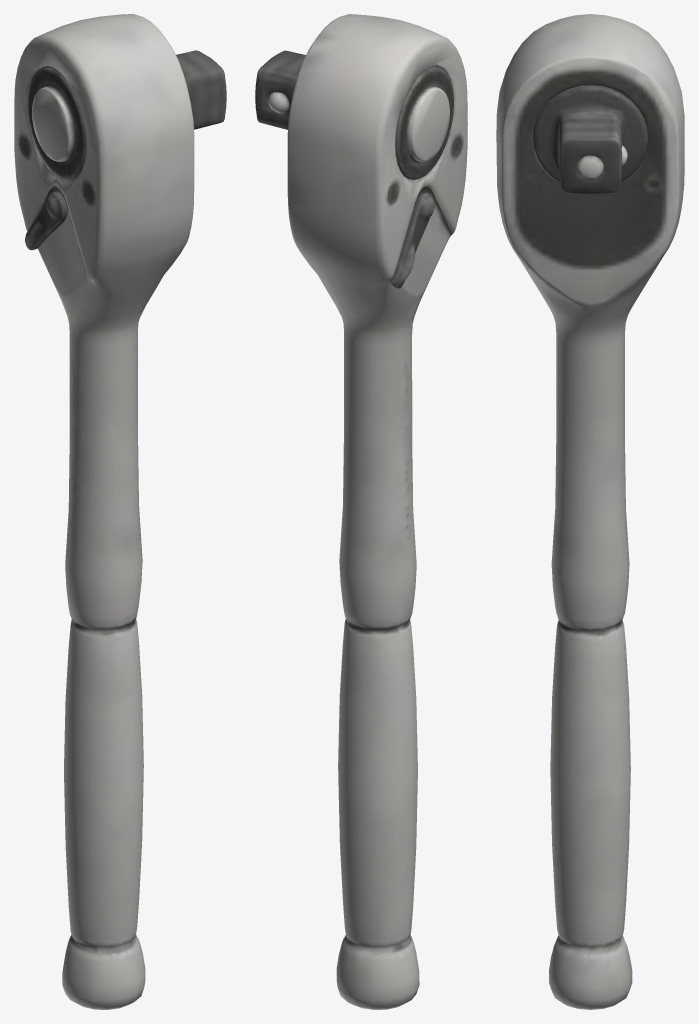
File: ratchet_wrench.glb
3 views of the same model, side by side, from view 1: azimuth 30°, elevation 25°; view 2: azimuth 150°, elevation 25°; view 3: azimuth 270°, elevation 25° (orthographic).
Parts seen in each view (by area): view 1: ratchet_wrench; view 2: ratchet_wrench; view 3: ratchet_wrench.
Boxes of the visible parts, x1=… form: ratchet_wrench: x1=14, y1=14, x2=226, y2=1009; ratchet_wrench: x1=255, y1=14, x2=467, y2=1009; ratchet_wrench: x1=496, y1=14, x2=684, y2=1009.
Bounding box in the file's own units: 0.044 × 0.2462 × 0.0433.
Materials: 1 (1 with a texture image).
